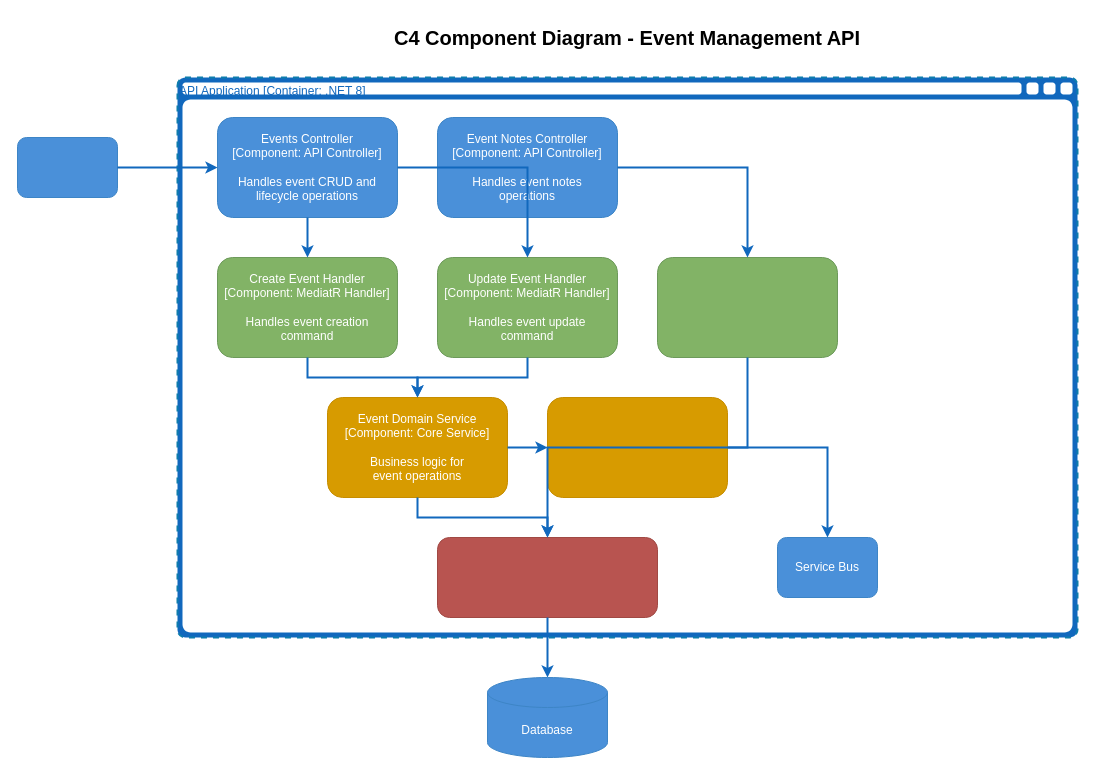
Some shapes in this 1096 by 775 pixel diagram are drawn without their labels. The centre of each missing label's shape, as x and y in pixels:
"EventManagementPlatformContext [Component: EF DbContext] Database access layer" belongs at point (547, 577).
"Get Events Handler [Component: MediatR Handler] Handles event list queries" belongs at point (747, 307).
"Notification Service [Component: Core Service] Handles event notifications" belongs at point (637, 447).
"Web App" belongs at point (67, 167).
